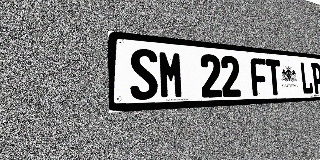2: (200, 53, 222, 98), (220, 55, 241, 97)
F: (250, 58, 268, 96)
L: (299, 62, 313, 94)
M: (158, 50, 184, 99)
P: (311, 63, 320, 94)
S: (129, 48, 159, 100)
T: (266, 59, 282, 95)
